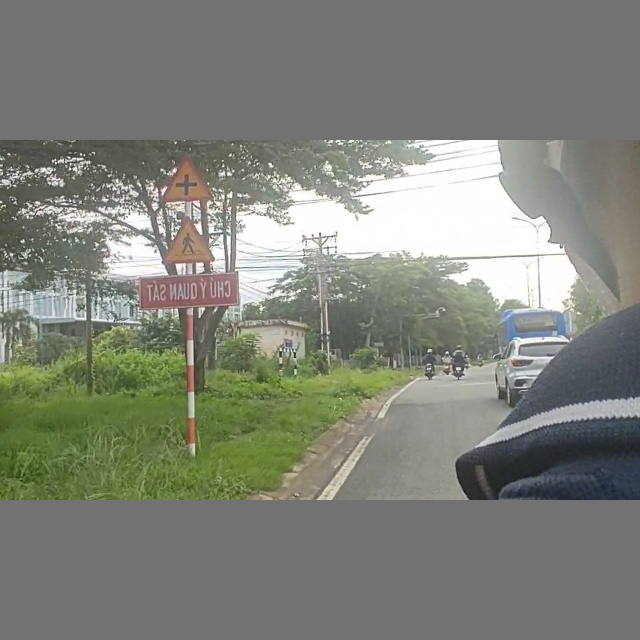W.205a: (149, 155, 213, 204)
W.224: (157, 214, 216, 265)
